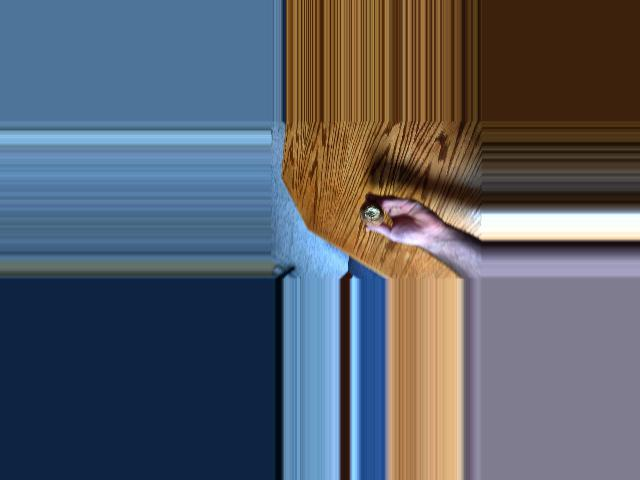sweet_potato: (353, 205, 384, 228)
